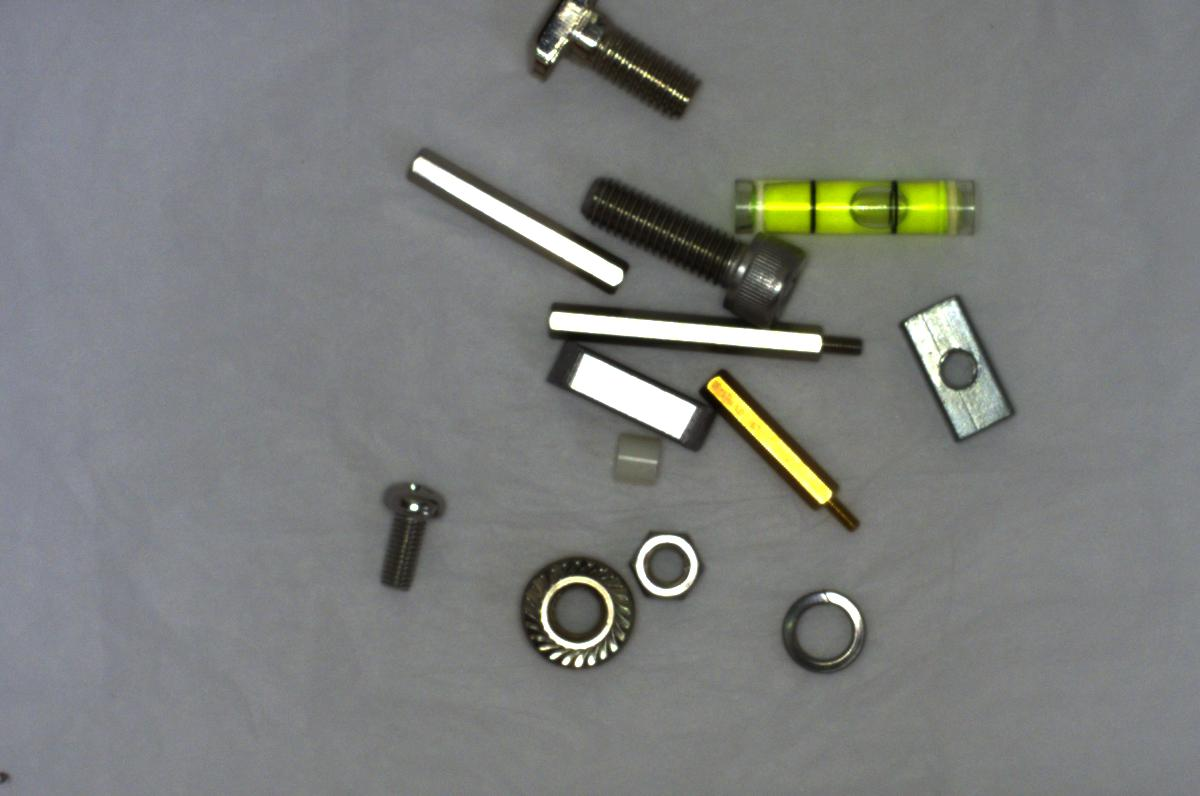Double hexagonal column: (405, 145, 632, 295)
Flange nut: (512, 545, 647, 681)
Hexagon nut: (624, 523, 707, 605)
Hexagon pillar: (693, 368, 869, 544)
Hexagon screw: (566, 163, 803, 322)
Hexagonal steel column: (538, 295, 871, 367)
Horizontal bubble: (730, 159, 978, 240)
Keybar: (547, 345, 720, 450)
Plastic cushion pillar: (602, 430, 674, 490)
Rectangular nut: (898, 294, 1020, 444)
Round head screw: (366, 472, 448, 580)
Spring washer: (761, 577, 880, 686)
T-shaped screw: (511, 1, 716, 131)
